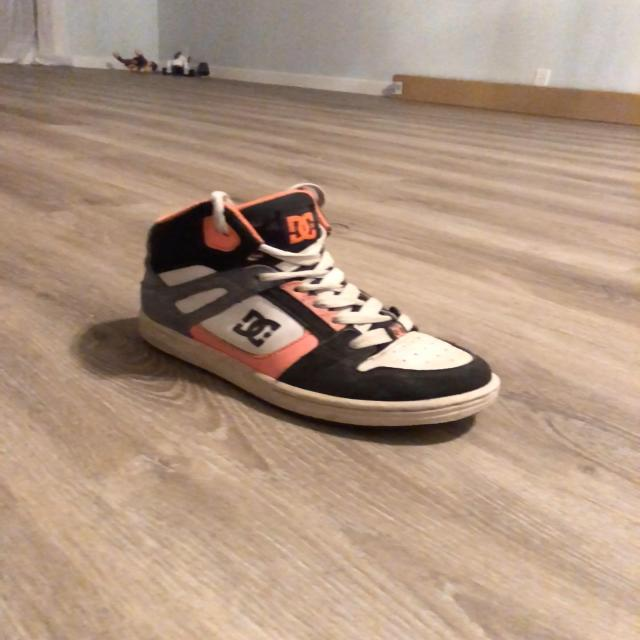shoe: (136, 185, 503, 433)
